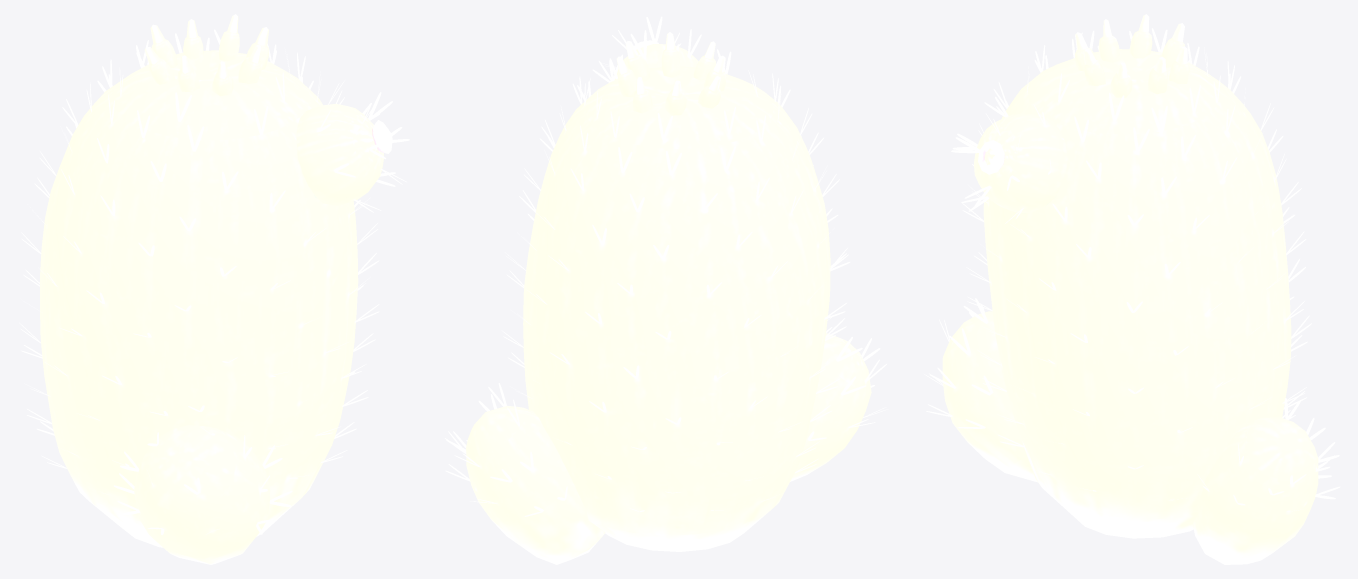
3 renders of one model, left to right at view 1: azimuth 30°, elevation 25°; view 2: azimuth 150°, elevation 25°; view 3: azimuth 270°, elevation 25°, orthographic. The views are drawn at different scales.
Visible parts, largest first — view 1: SM_Cactus_Barrel_01v2_LOD0; view 2: SM_Cactus_Barrel_01v2_LOD0; view 3: SM_Cactus_Barrel_01v2_LOD0.
Part boxes in pixels (box(x1,y1,x2,y2)): SM_Cactus_Barrel_01v2_LOD0: box(19, 14, 409, 564); SM_Cactus_Barrel_01v2_LOD0: box(445, 16, 888, 564); SM_Cactus_Barrel_01v2_LOD0: box(924, 14, 1340, 564).
Bounding box in the file's own units: 0.9682 × 1.42 × 1.1.
Materials: 1 (1 with a texture image).
